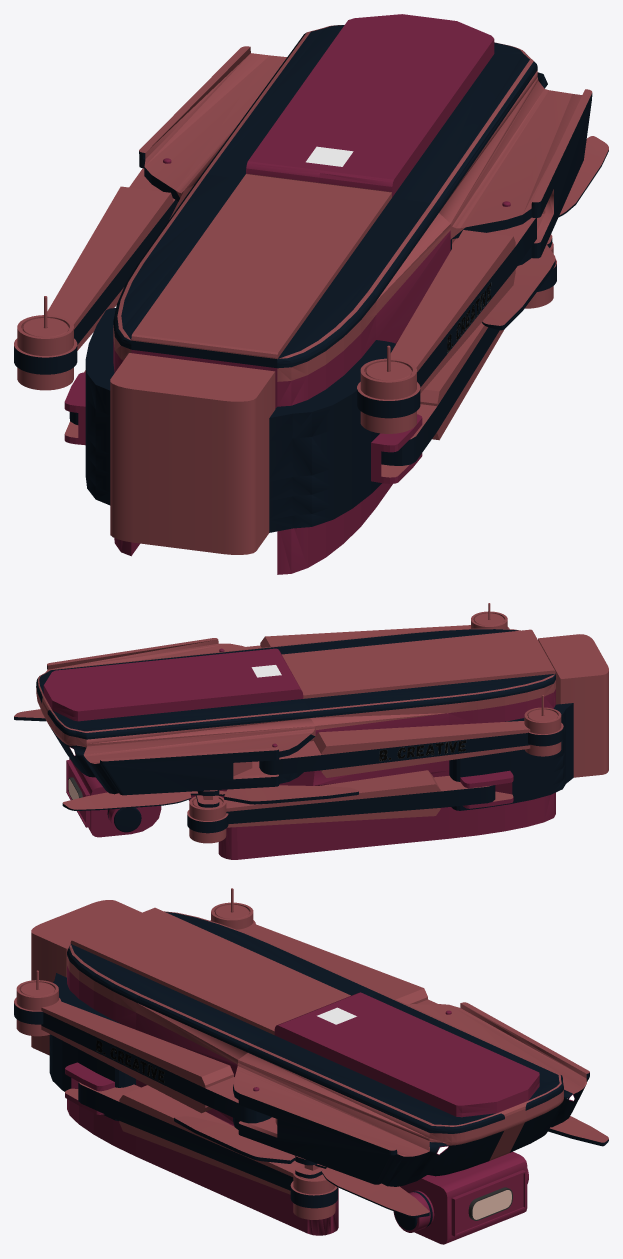
Rendered from body_01_red.a0b601d0.glb.
3 views of the same model, one above another, from view 1: azimuth 30°, elevation 25°; view 2: azimuth 150°, elevation 25°; view 3: azimuth 270°, elevation 25° (orthographic). The views are drawn at different scales.
Visible parts, largest first — view 1: Cube.028, Cube.039, Cube.033, Cube.029, Cube.035, Plane.024, Plane.023; view 2: Cube.028, Cube.029, Cube.030, Cube.039, Cube.033, Plane.020, Cube.037, Plane.019, Cylinder.006, Cube.032; view 3: Cube.028, Cube.033, Cube.035, Cube.037, Cube.029, Cube.039, Plane.024, Plane.023, Plane.019, Cylinder.007, Cube.040.
Part boxes in pixels (x1,y1,x2,y2): Cube.028: [64, 14, 592, 574]; Cube.039: [110, 353, 275, 554]; Cube.033: [357, 217, 536, 433]; Cube.029: [14, 168, 178, 390]; Cube.035: [381, 242, 556, 465]; Plane.024: [482, 244, 555, 330]; Plane.023: [558, 136, 608, 217]; Cube.028: [36, 628, 573, 859]; Cube.029: [259, 695, 563, 777]; Cube.030: [187, 770, 495, 843]; Cube.039: [538, 634, 608, 777]; Cube.033: [246, 603, 509, 648]; Plane.020: [216, 785, 358, 804]; Cube.037: [66, 758, 161, 837]; Plane.019: [62, 791, 200, 810]; Cylinder.006: [107, 807, 143, 834]; Cube.032: [196, 790, 219, 807]; Cube.028: [49, 907, 589, 1235]; Cube.033: [14, 970, 271, 1123]; Cube.035: [78, 1082, 337, 1219]; Cube.037: [400, 1151, 527, 1244]; Cube.029: [210, 888, 437, 1004]; Cube.039: [31, 900, 141, 1055]; Plane.024: [174, 1116, 295, 1163]; Plane.023: [315, 1164, 429, 1217]; Plane.019: [548, 1116, 608, 1146]; Cylinder.007: [393, 1190, 434, 1232]; Cube.040: [472, 1190, 511, 1219].
Size of the model in its own units: 3.58 by 1.11 by 3.48.
Materials: 12 (1 with a texture image).
